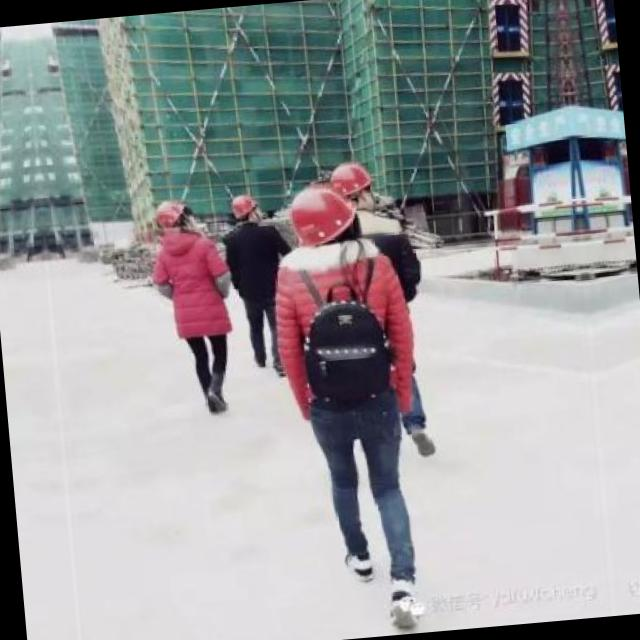helmet: (279, 176, 368, 254), (321, 152, 378, 214), (145, 189, 195, 239), (222, 190, 266, 226)
